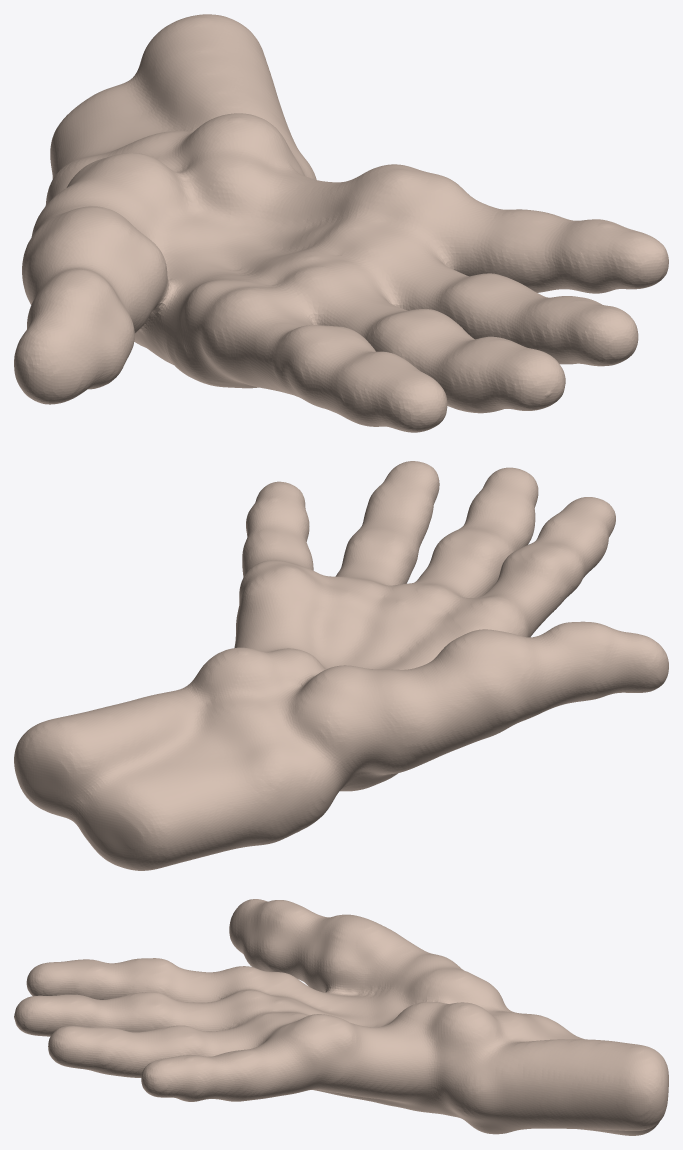
The model's file is hand.glb.
3 views of the same model, one above another, from view 1: azimuth 30°, elevation 25°; view 2: azimuth 150°, elevation 25°; view 3: azimuth 270°, elevation 25° (orthographic). The views are drawn at different scales.
Visible parts, largest first — view 1: world; view 2: world; view 3: world.
Part boxes in pixels (x1,y1,x2,y2): world: (14,14,668,432); world: (14,461,668,870); world: (14,899,668,1135).
Bounding box in the file's own units: 163 × 57.08 × 238.
